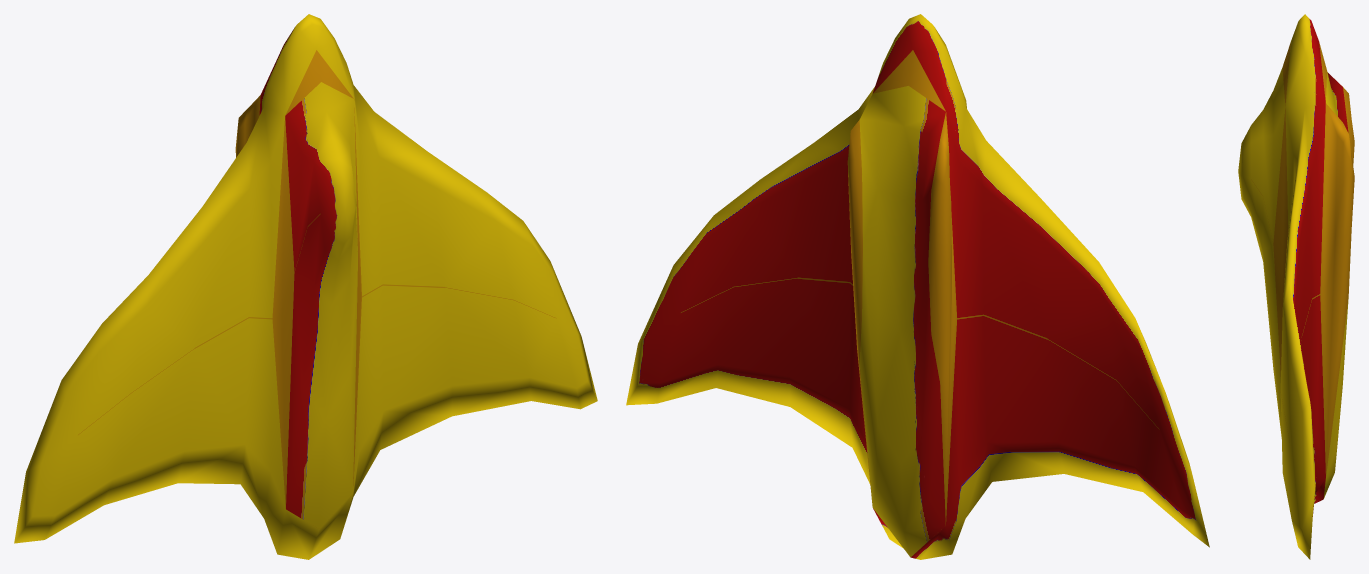
File: Player3.FBX
The picture shows the model from 3 angles, left to right: view 1: azimuth 30°, elevation 25°; view 2: azimuth 150°, elevation 25°; view 3: azimuth 270°, elevation 25°; orthographic projection. The views are drawn at different scales.
Visible parts, largest first — view 1: Box01; view 2: Box01; view 3: Box01.
Boxes of the visible parts, left/top/right/bottom form: Box01: left=14, top=14, right=597, bottom=559; Box01: left=626, top=14, right=1209, bottom=559; Box01: left=1238, top=14, right=1354, bottom=559.
Size of the model in its own units: 137 by 26.15 by 122.
Materials: 1 (1 with a texture image).
